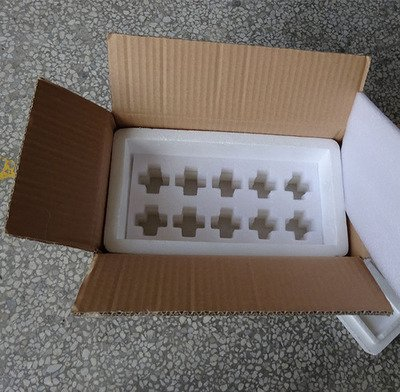5/可回收垃圾/泡沫: (4, 33, 400, 355)
